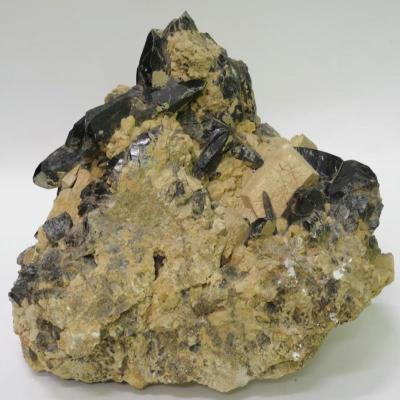mineralogy: (9, 13, 394, 391)
